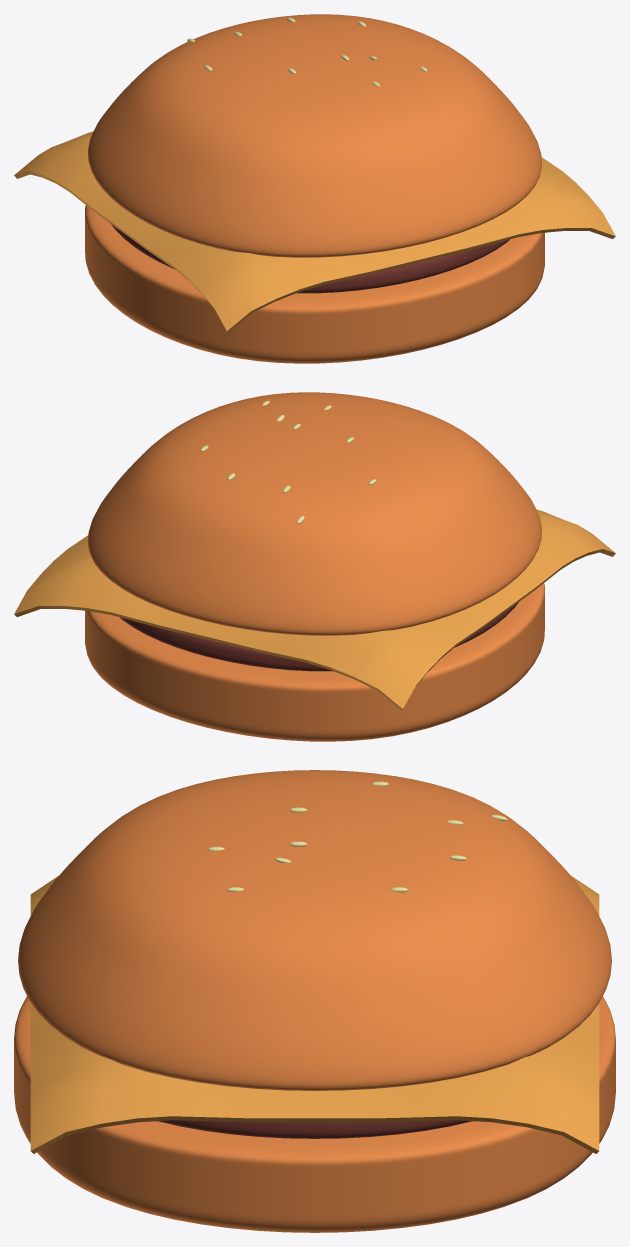
Rendered from hamburger.glb.
The picture shows the model from 3 angles, top to bottom: view 1: azimuth 30°, elevation 25°; view 2: azimuth 150°, elevation 25°; view 3: azimuth 270°, elevation 25°; orthographic projection. The views are drawn at different scales.
Parts seen in each view (by area): view 1: Cube.001, Cube, Plane, Cube.002; view 2: Cube.001, Cube, Plane, Cube.002; view 3: Cube.001, Cube, Plane, Cube.002.
Part boxes in pixels (x1=…): Cube.001: x1=88, y1=14, x2=541, y2=257; Cube: x1=85, y1=205, x2=544, y2=363; Plane: x1=14, y1=131, x2=615, y2=332; Cube.002: x1=111, y1=224, x2=509, y2=293; Cube.001: x1=88, y1=392, x2=541, y2=635; Cube: x1=85, y1=583, x2=544, y2=741; Plane: x1=14, y1=509, x2=615, y2=710; Cube.002: x1=120, y1=602, x2=518, y2=671; Cube.001: x1=18, y1=770, x2=611, y2=1090; Cube: x1=14, y1=996, x2=615, y2=1232; Plane: x1=30, y1=876, x2=599, y2=1153; Cube.002: x1=157, y1=1120, x2=472, y2=1138.
Bounding box in the file's own units: 7.36 × 4.11 × 7.36.
